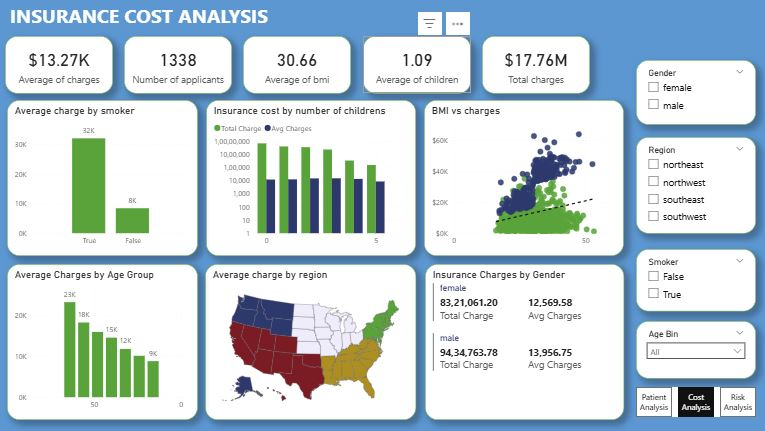

The page's visual inventory and layout, read from the dashboard file:
{"tool":"powerbi","page":{"name":"Cost Analysis","canvas":[1280,720],"ordinal":1},"visuals":[{"type":"card","fields":{"Values":["Avg(Insurance.charges)"]},"box":[8,61.1,180,96],"z":0},{"type":"textbox","box":[11.4,0,517.1,61.4],"z":1000},{"type":"card","fields":{"Values":["Insurance.Records"]},"box":[206.7,61.1,180,96],"z":2000},{"type":"card","fields":{"Values":["Avg(Insurance.bmi)"]},"box":[405.8,61.1,180,96],"z":3000},{"type":"card","fields":{"Values":["Avg(Insurance.children)"]},"box":[604.9,61.1,180,96],"z":4000},{"type":"card","fields":{"Values":["Sum(Insurance.charges)"]},"box":[804,61.1,180,96],"z":5000},{"type":"shapeMap","title":"Average charge by region","fields":{"Category":["regions.Name"],"Series":["Insurance.region"],"Value":["Insurance.Avg Charges"]},"box":[341.5,441.1,352.2,260],"z":6000},{"type":"clusteredColumnChart","title":"Insurance cost by number  of childrens","fields":{"Category":["Insurance.children"],"Y":["Insurance.Total Charge","Insurance.Avg Charges"]},"box":[344,167.6,350,260],"z":7000},{"type":"scatterChart","title":"BMI vs charges","fields":{"X":["Insurance.bmi"],"Y":["Insurance.charges"],"Series":["Insurance.smoker"]},"box":[706.7,167.6,333.3,260],"z":8000},{"type":"columnChart","title":"Average Charges by Age Group","fields":{"Category":["Insurance.age (bins)"],"Y":["Insurance.Avg Charges"]},"box":[11.2,441.1,318.2,260],"z":9000},{"type":"columnChart","title":"Average charge by smoker","fields":{"Category":["Insurance.smoker"],"Y":["Insurance.Avg Charges"]},"box":[11.2,167.6,318.2,260],"z":10000},{"type":"multiRowCard","title":"Insurance Charges by Gender","fields":{"Values":["Insurance.sex","Insurance.Total Charge","Insurance.Avg Charges"]},"box":[708.3,441.1,331.7,260],"z":11000},{"type":"slicer","fields":{"Values":["Insurance.sex"]},"box":[1060,102.4,200,108],"z":12000},{"type":"slicer","fields":{"Values":["Insurance.region"]},"box":[1060,229.9,200,161],"z":13000},{"type":"slicer","fields":{"Values":["Insurance.smoker"]},"box":[1060,415.9,200,103.6],"z":14000},{"type":"slicer","fields":{"Values":["Insurance.age (bins)"]},"box":[1060,535.9,200,96],"z":15000},{"type":"pageNavigator","box":[1060,647.4,200,50],"z":16000}]}

Visuals, with their boxes in screenshot pixels (x1, y1, x2, y2), scaled from the page's 1280x720 canvas onto the 765x431 screenshot:
card - Avg(Insurance.charges): box(5, 37, 112, 94)
textbox: box(7, 0, 316, 37)
card - Insurance.Records: box(124, 37, 231, 94)
card - Avg(Insurance.bmi): box(243, 37, 350, 94)
card - Avg(Insurance.children): box(362, 37, 469, 94)
card - Sum(Insurance.charges): box(481, 37, 588, 94)
"Average charge by region" shapeMap: box(204, 264, 415, 420)
"Insurance cost by number  of childrens" clusteredColumnChart: box(206, 100, 415, 256)
"BMI vs charges" scatterChart: box(422, 100, 622, 256)
"Average Charges by Age Group" columnChart: box(7, 264, 197, 420)
"Average charge by smoker" columnChart: box(7, 100, 197, 256)
"Insurance Charges by Gender" multiRowCard: box(423, 264, 622, 420)
slicer - Insurance.sex: box(634, 61, 753, 126)
slicer - Insurance.region: box(634, 138, 753, 234)
slicer - Insurance.smoker: box(634, 249, 753, 311)
slicer - Insurance.age (bins): box(634, 321, 753, 378)
pageNavigator: box(634, 388, 753, 417)
